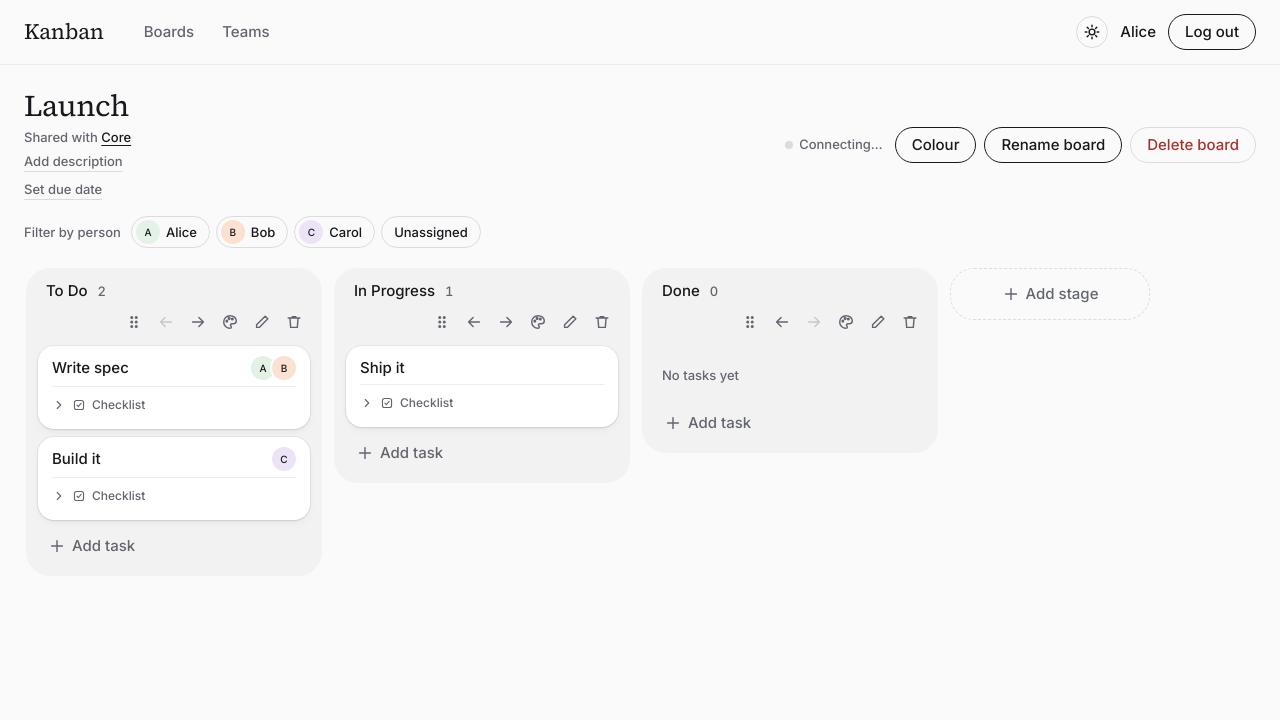
assigning in the task dialog › shows a long title in full and saves it with Enter
Expected: the heading "Launch" is shown, [24,85,129,126]
Click the button with aria-label "open task ship it" at (382, 367), box [360,358,405,377]
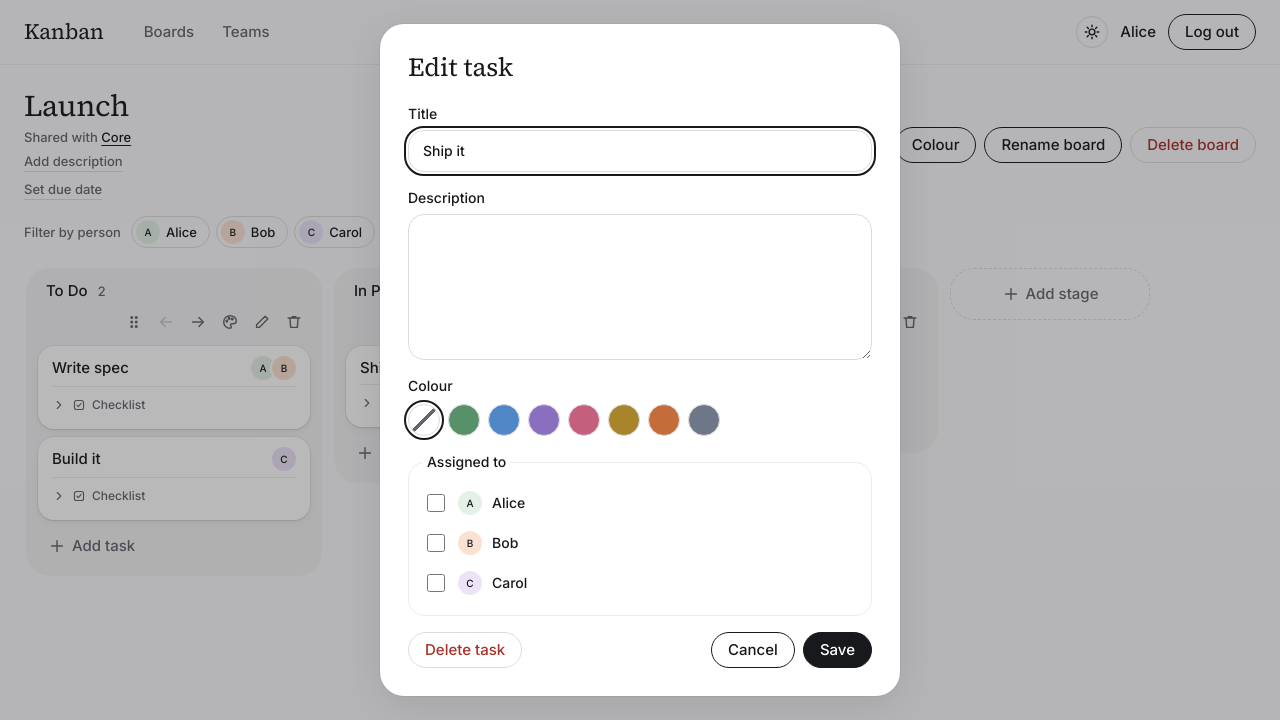
Replace the text in the text box labelled "Title" with "Ship it to everyone" at (640, 151), box [408,130,872,172]
Then press Enter
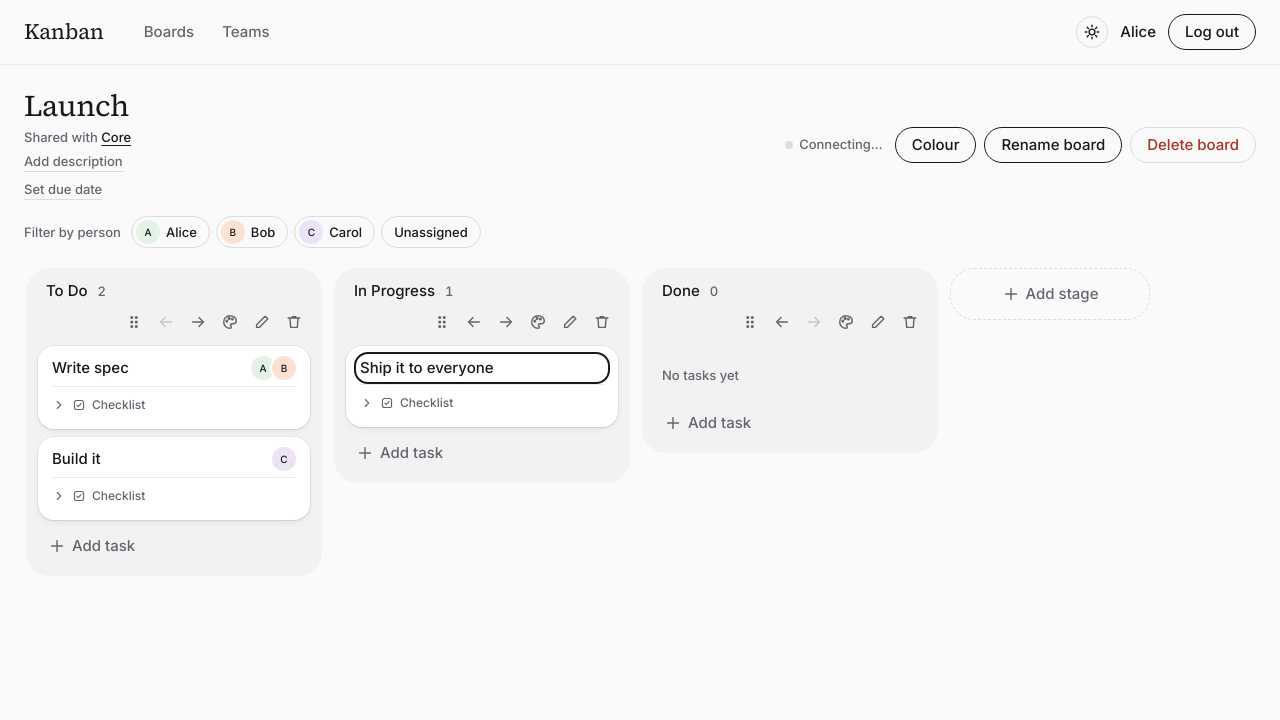
Expected: the dialog is gone
Expected: the text "Ship it to everyone" is shown, [360,358,494,378]
